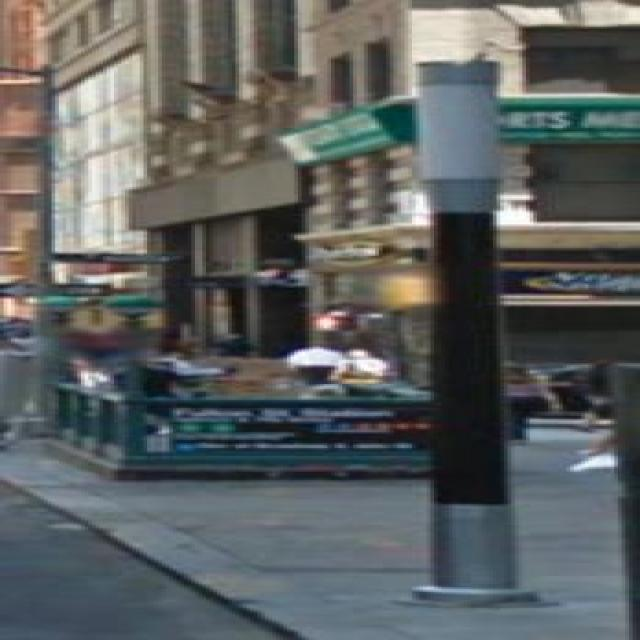off: (401, 15, 510, 125)
